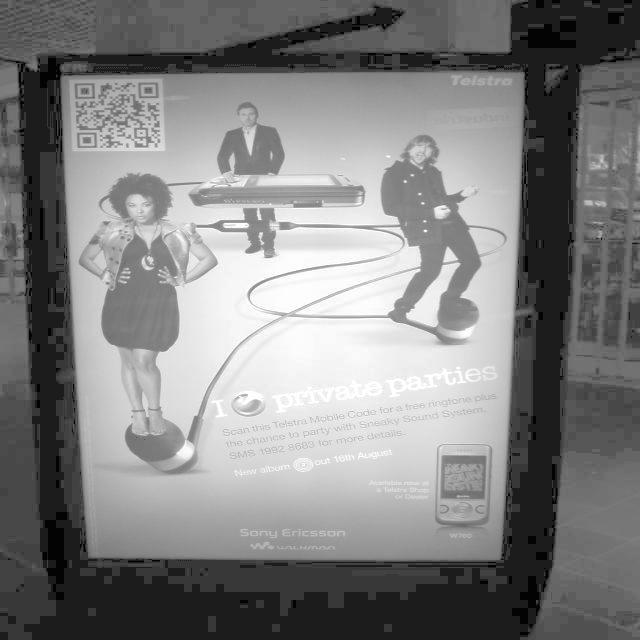qr_code: (75, 82, 161, 148)
